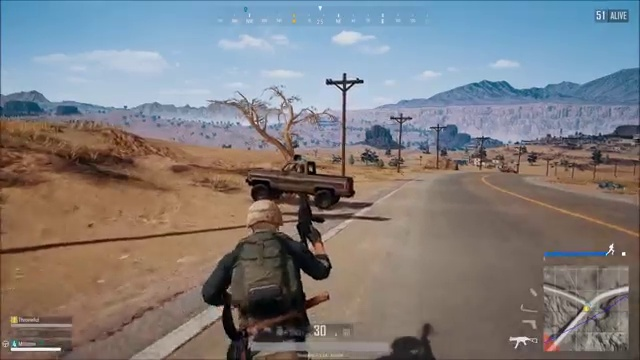Player: (187, 196, 343, 322)
